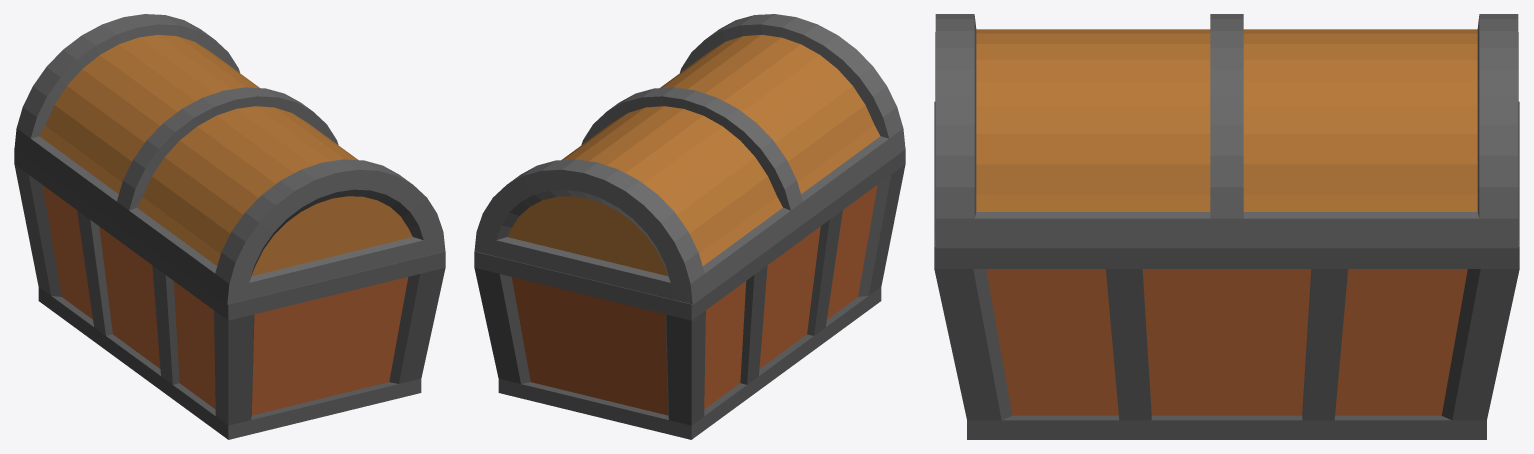
File: TreasureChest.fbx
The picture shows the model from 3 angles, left to right: view 1: azimuth 30°, elevation 25°; view 2: azimuth 150°, elevation 25°; view 3: azimuth 270°, elevation 25°; orthographic projection. The views are drawn at different scales.
Parts seen in each view (by area): view 1: Top, Bottom; view 2: Top, Bottom; view 3: Top, Bottom.
Boxes of the visible parts, left/top/right/bottom form: Top: left=14, top=14, right=445, bottom=304; Bottom: left=14, top=148, right=445, bottom=439; Top: left=474, top=14, right=905, bottom=304; Bottom: left=474, top=148, right=905, bottom=439; Top: left=935, top=14, right=1518, bottom=248; Bottom: left=934, top=101, right=1519, bottom=439.
Size of the model in its own units: 216 by 239 by 367.
